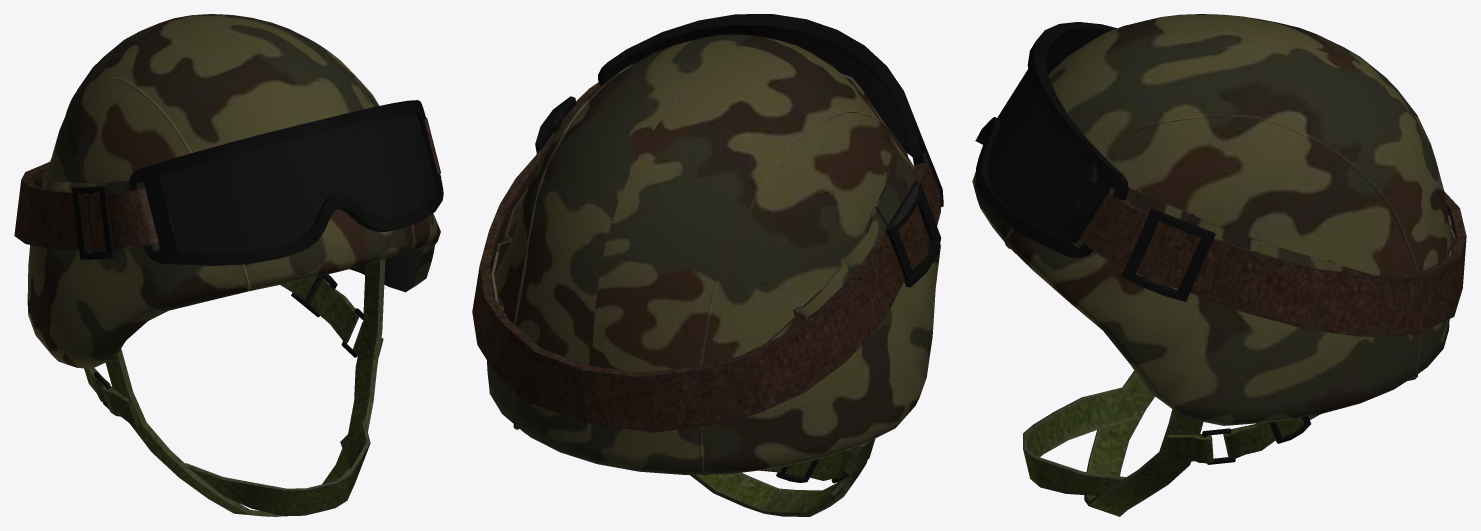
The model's file is helmet_2.opt.glb.
The picture shows the model from 3 angles, left to right: view 1: azimuth 30°, elevation 25°; view 2: azimuth 150°, elevation 25°; view 3: azimuth 270°, elevation 25°; orthographic projection. The views are drawn at different scales.
Visible parts, largest first — view 1: Sphere.001, Sphere; view 2: Sphere.001, Sphere; view 3: Sphere.001, Sphere.
Part boxes in pixels (x1,y1,x2,y2): Sphere.001: (27, 14, 440, 368); Sphere: (14, 100, 443, 516); Sphere.001: (487, 34, 940, 475); Sphere: (472, 14, 943, 516); Sphere.001: (972, 14, 1455, 425); Sphere: (975, 22, 1466, 516).
Bounding box in the file's own units: 0.2409 × 0.2913 × 0.2753.
Materials: 2 (2 with a texture image).
